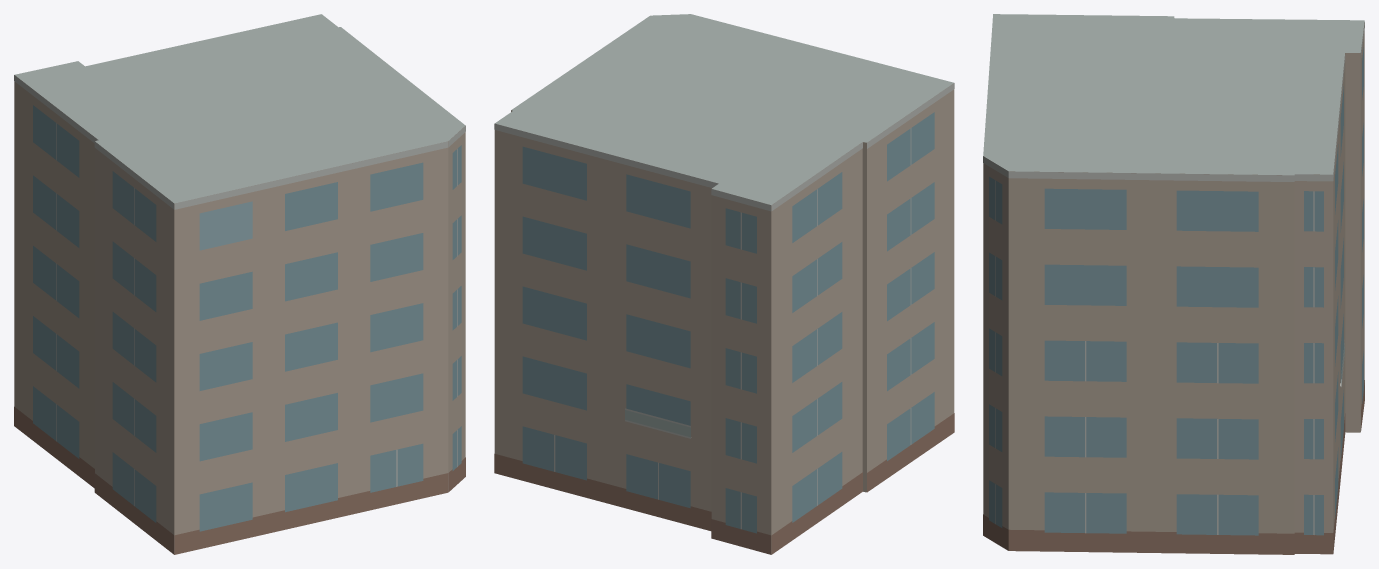
The model's file is survey-upis-32927541.glb.
3 views of the same model, side by side, from view 1: azimuth 30°, elevation 25°; view 2: azimuth 150°, elevation 25°; view 3: azimuth 270°, elevation 25° (orthographic). The views are drawn at different scales.
Parts seen in each view (by area): view 1: survey-upis-32927541.tmp; view 2: survey-upis-32927541.tmp; view 3: survey-upis-32927541.tmp.
Boxes of the visible parts, x1=… form: survey-upis-32927541.tmp: x1=14, y1=14, x2=465, y2=554; survey-upis-32927541.tmp: x1=494, y1=14, x2=954, y2=554; survey-upis-32927541.tmp: x1=983, y1=14, x2=1364, y2=554.
Bounding box in the file's own units: 12.31 × 13.5 × 12.31.
